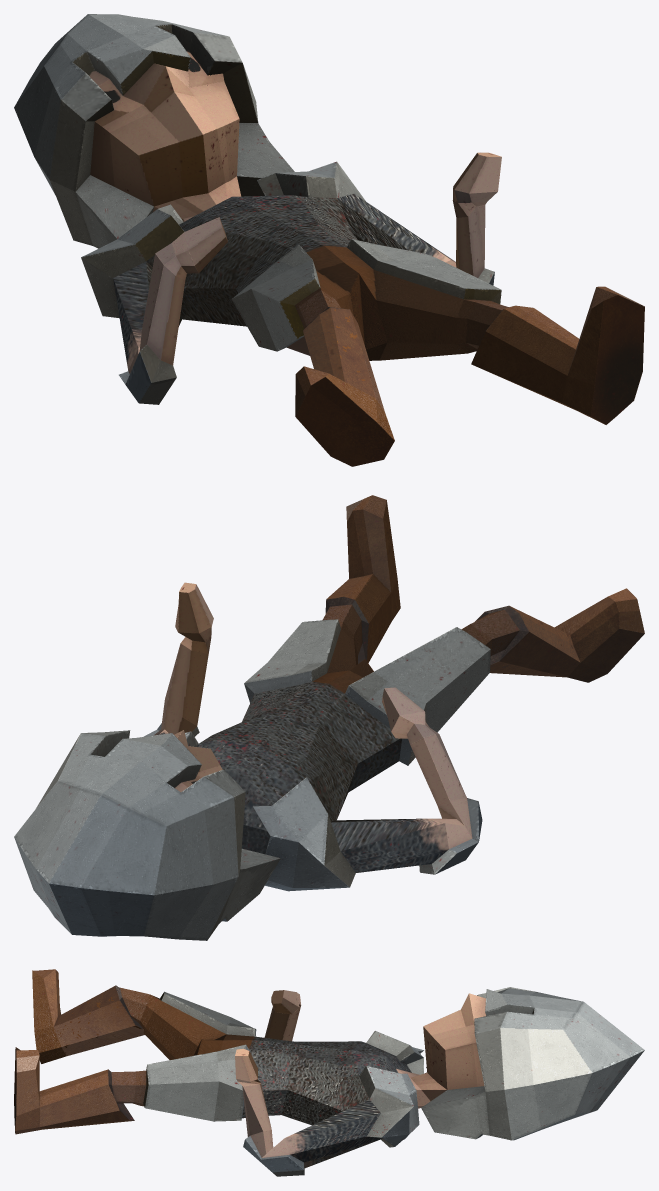
Rendered from Walk_Soldier_24.obj.
3 renders of one model, top to bottom at view 1: azimuth 30°, elevation 25°; view 2: azimuth 150°, elevation 25°; view 3: azimuth 270°, elevation 25°, orthographic. The views are drawn at different scales.
Visible parts, largest first — view 1: Soldado_LowPolySTD; view 2: Soldado_LowPolySTD; view 3: Soldado_LowPolySTD.
Part boxes in pixels (x1=…): Soldado_LowPolySTD: x1=14, y1=14, x2=644, y2=466; Soldado_LowPolySTD: x1=14, y1=495, x2=644, y2=940; Soldado_LowPolySTD: x1=14, y1=969, x2=644, y2=1176.
Size of the model in its own units: 1.35 by 0.7594 by 2.96.
